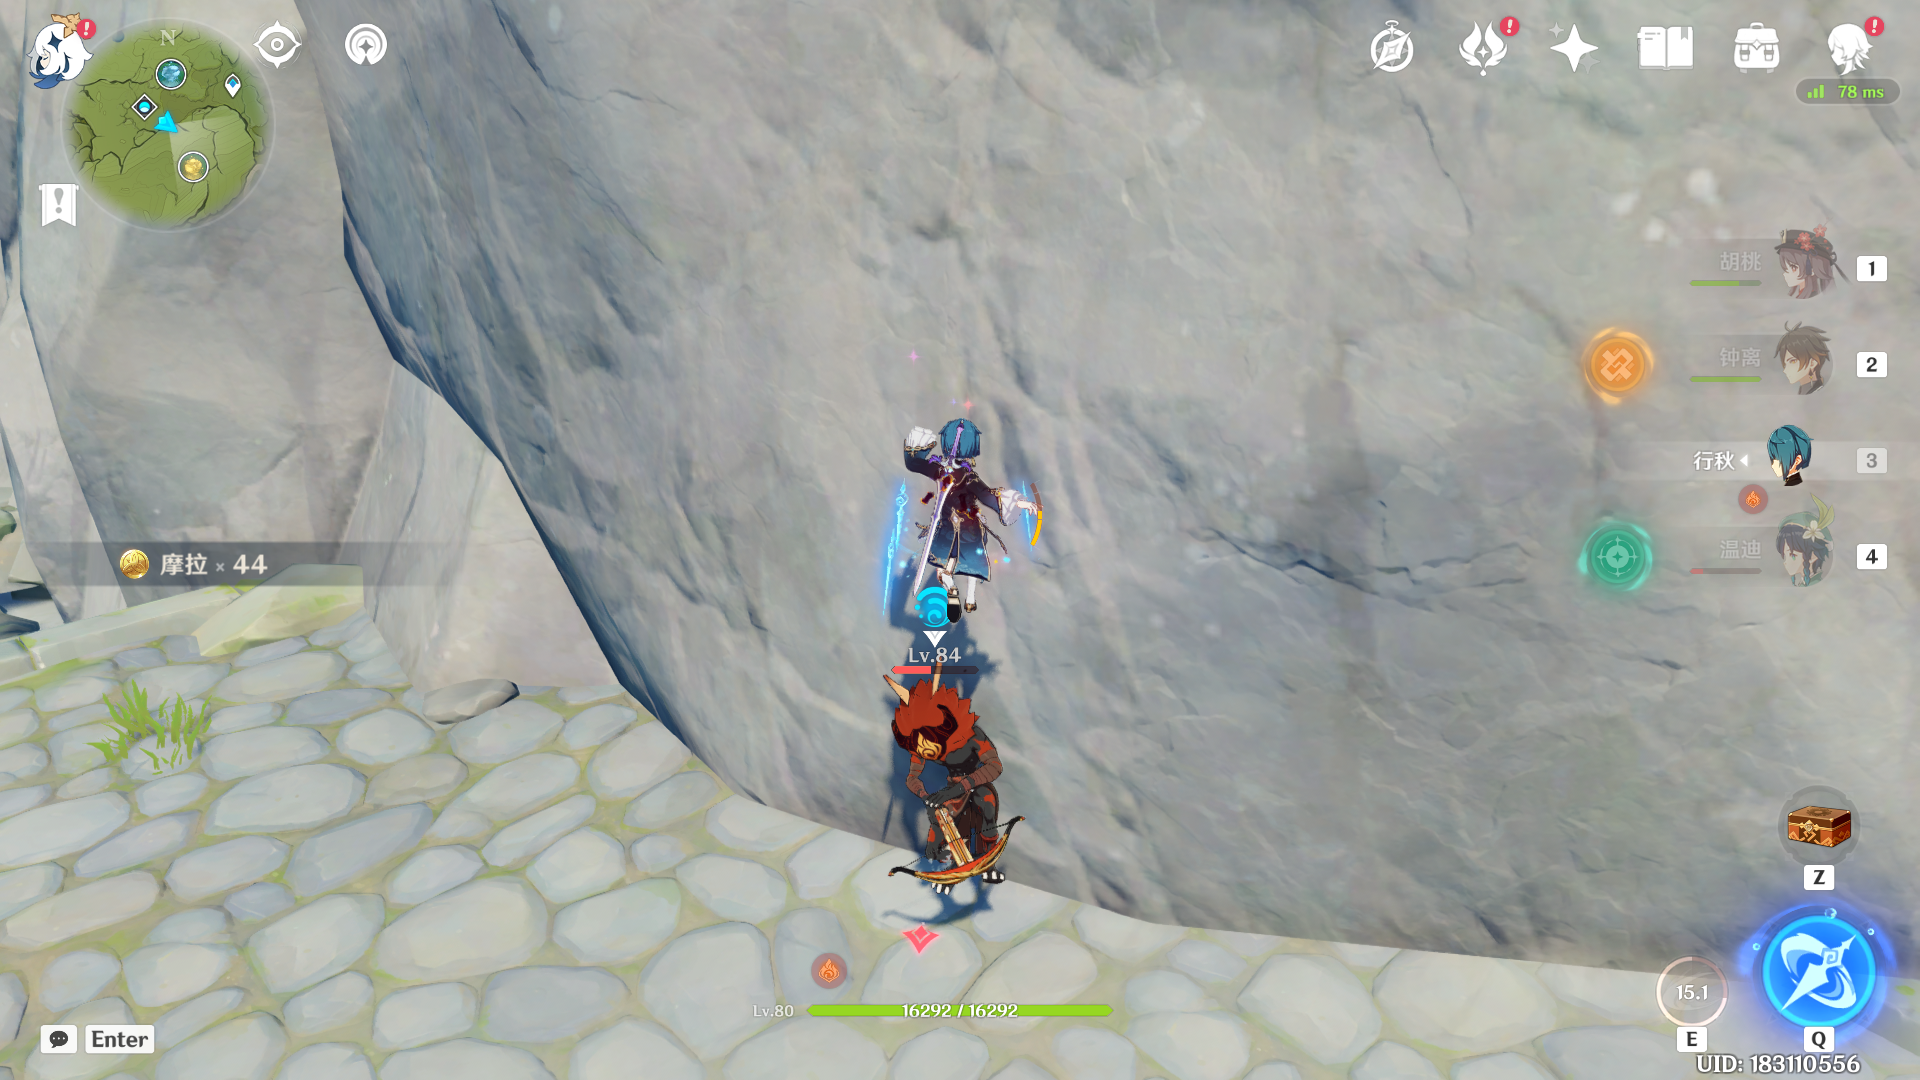character: (865, 375, 1043, 632)
hili: (858, 653, 1044, 931)
